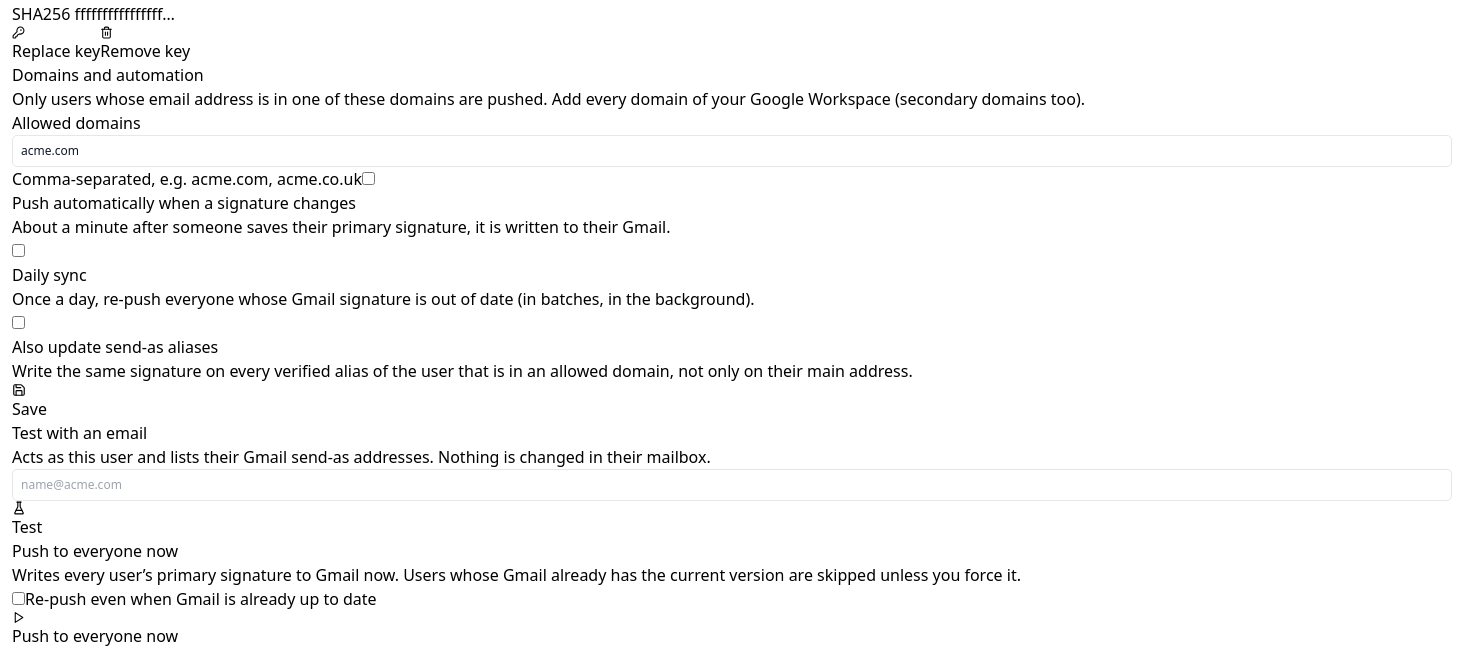
it: GoogleWorkspaceTab › loops the bulk push endpoint until next_offset is null and lists the results
The width and height of the screenshot is (1464, 648).
(page scrolled)
Click the checkbox labelled "Re-push even when Gmail is already up to date". click: (18, 598)
box: [12,592,25,605]
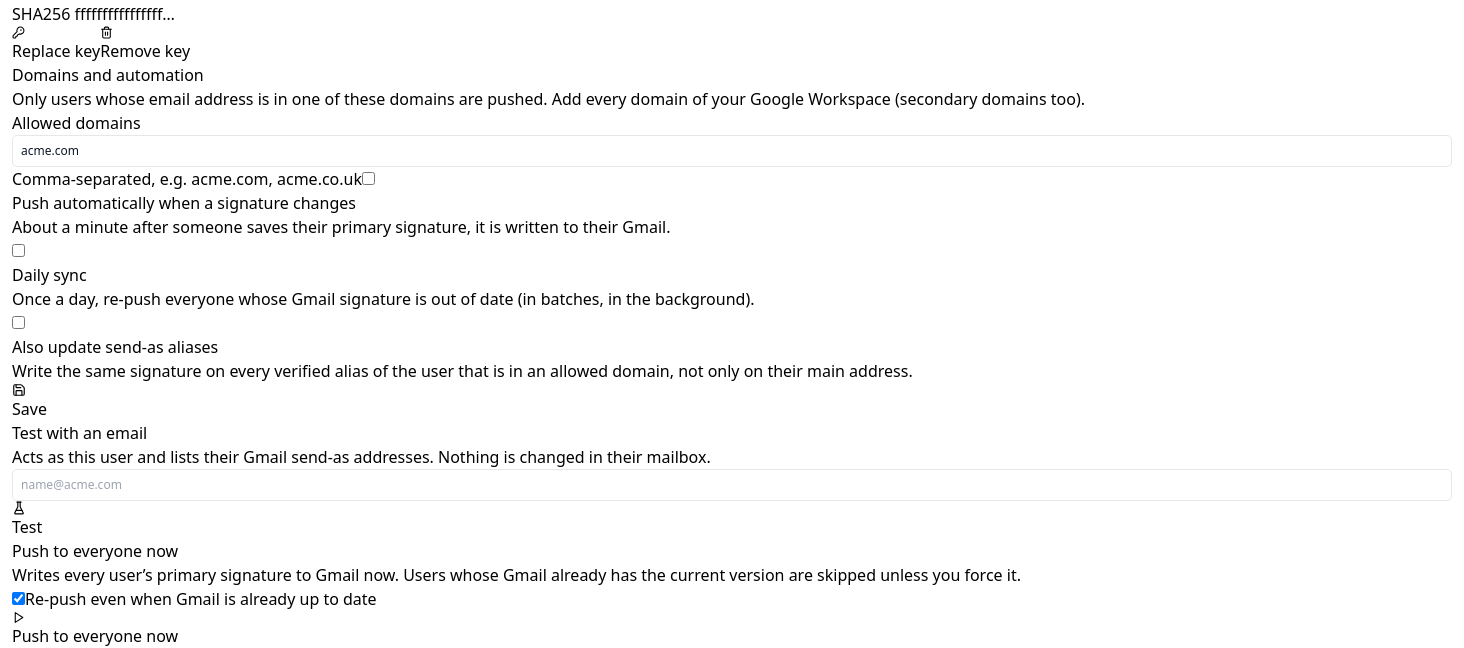
Click the button "Push to everyone now". click: (95, 630)
box: [12,611,178,647]
(page scrolled)
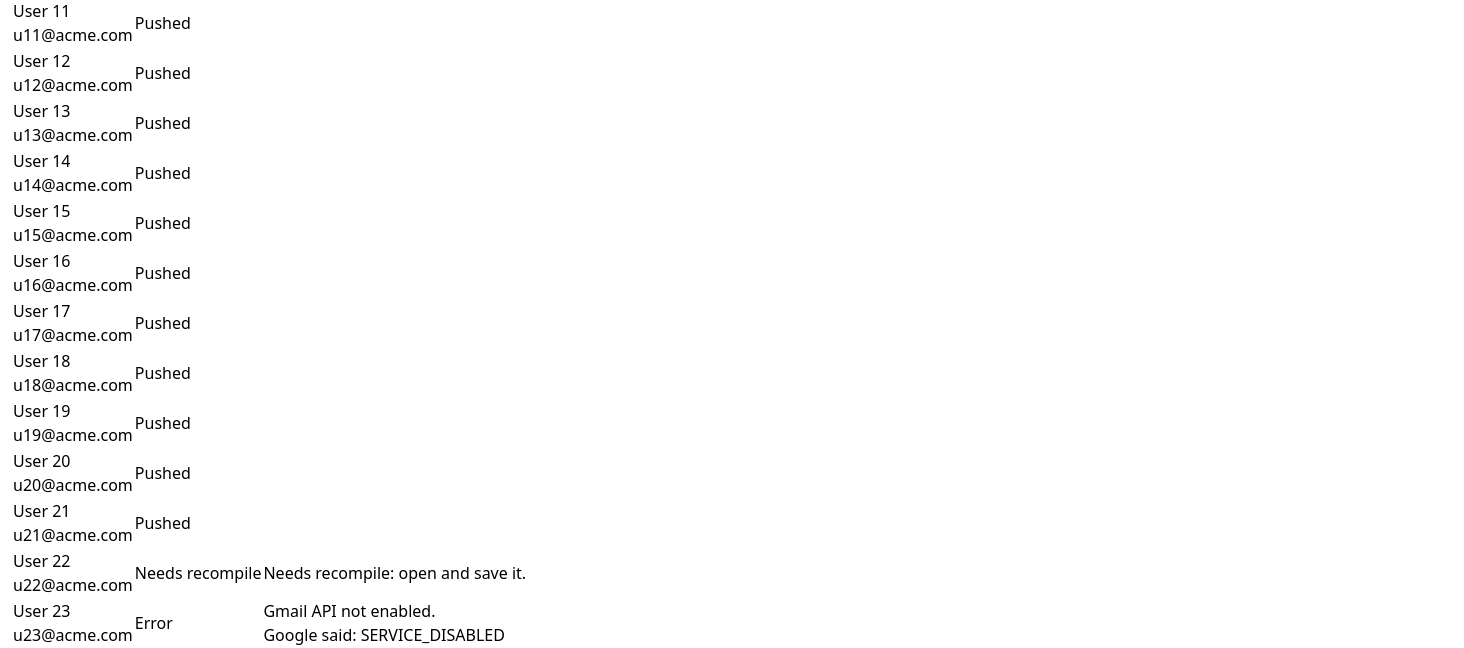
Expected: the text "Needs recompile: open and save it." is shown, [262,548,527,598]
Expected: the text "Gmail API not enabled." is shown, [264,600,436,622]
Expected: the text "Google said: SERVICE_DISABLED" is shown, [264,623,526,647]
